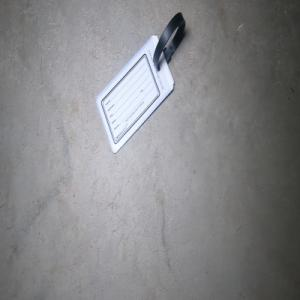LuggageTag: (94, 10, 186, 155)
